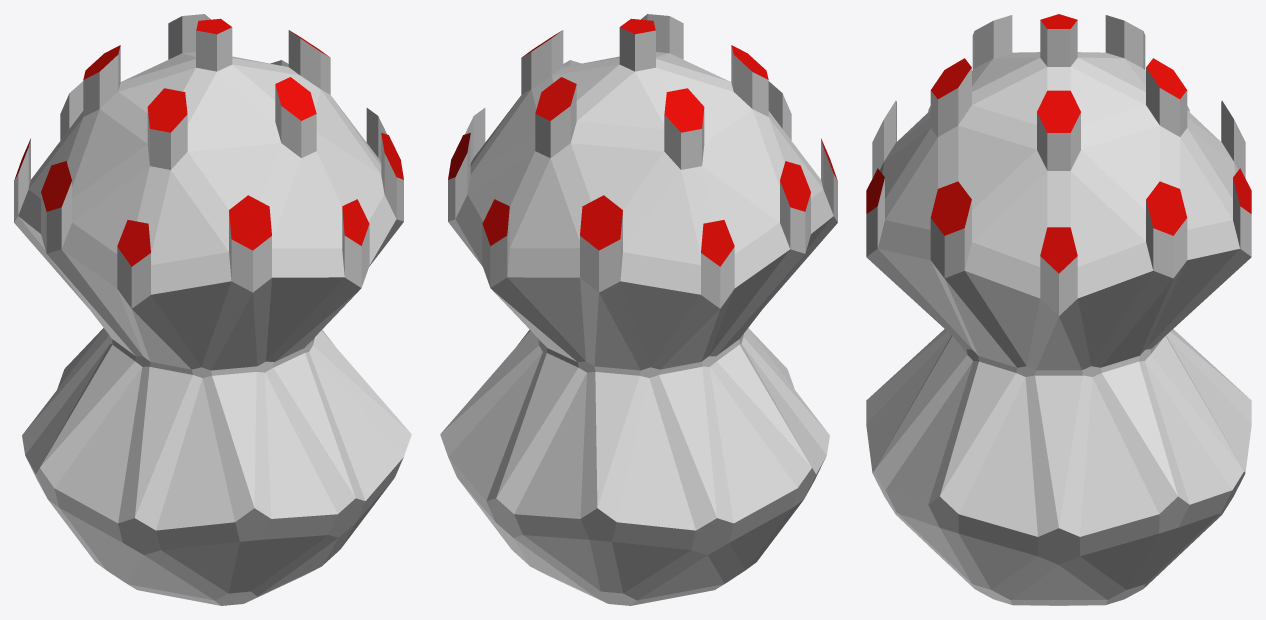
Rendered from CodeyokogRAND.fbx.
3 views of the same model, side by side, from view 1: azimuth 30°, elevation 25°; view 2: azimuth 150°, elevation 25°; view 3: azimuth 270°, elevation 25° (orthographic).
Parts seen in each view (by area): view 1: Icosphere.008, Icosphere.012; view 2: Icosphere.008, Icosphere.012; view 3: Icosphere.008, Icosphere.012.
Part boxes in pixels (left/top/right/bottom): Icosphere.008: left=14, top=14, right=411, bottom=605; Icosphere.012: left=14, top=18, right=403, bottom=266; Icosphere.008: left=440, top=14, right=837, bottom=605; Icosphere.012: left=448, top=18, right=837, bottom=266; Icosphere.008: left=866, top=15, right=1251, bottom=605; Icosphere.012: left=866, top=14, right=1251, bottom=273.
Size of the model in its own units: 397 by 621 by 377.
